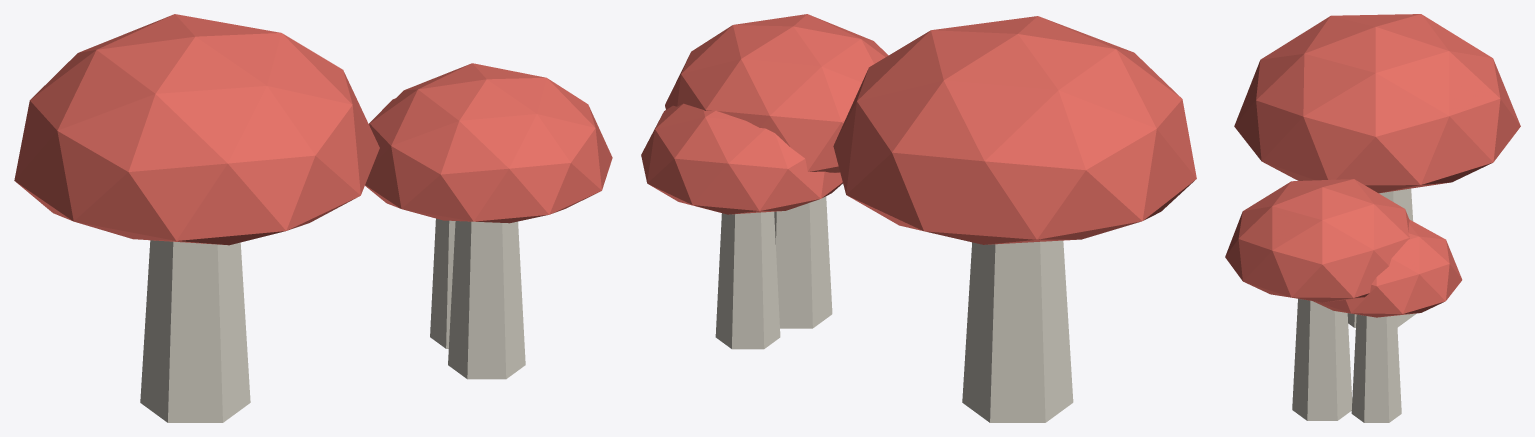
The model's file is Mushroom_Red_B.glb.
The picture shows the model from 3 angles, left to right: view 1: azimuth 30°, elevation 25°; view 2: azimuth 150°, elevation 25°; view 3: azimuth 270°, elevation 25°; orthographic projection. The views are drawn at different scales.
Parts seen in each view (by area): view 1: Mushroom_Red_B; view 2: Mushroom_Red_B; view 3: Mushroom_Red_B.
Boxes of the visible parts, x1,y1,x2,y2 form: Mushroom_Red_B: [14, 14, 612, 422]; Mushroom_Red_B: [641, 14, 1196, 422]; Mushroom_Red_B: [1225, 14, 1520, 422].
Bounding box in the file's own units: 0.669 × 0.4526 × 0.4253.
